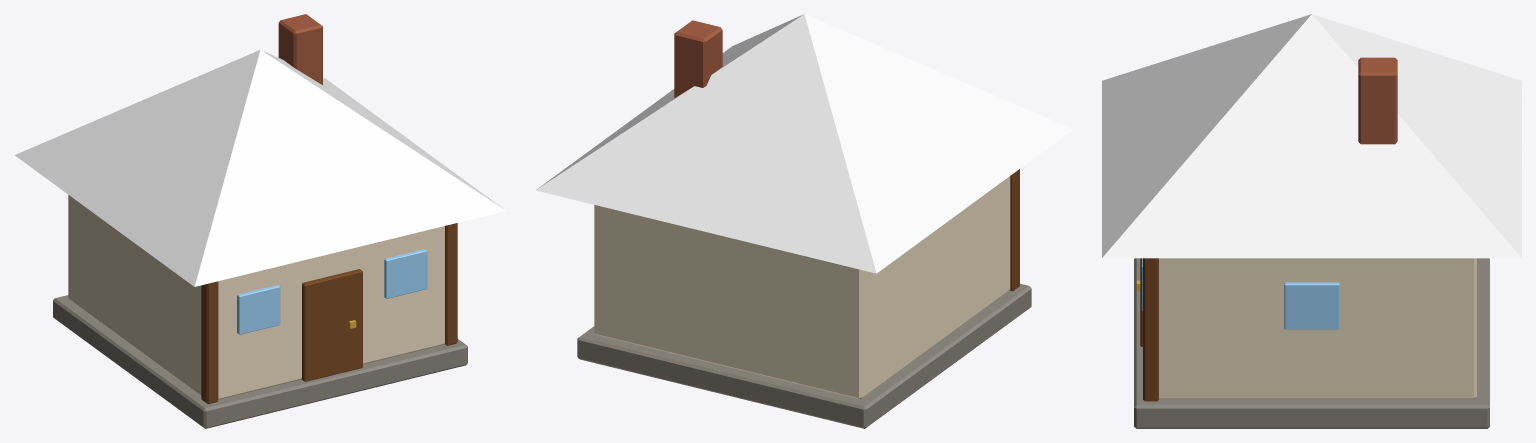
Rendered from house.glb.
3 views of the same model, side by side, from view 1: azimuth 30°, elevation 25°; view 2: azimuth 150°, elevation 25°; view 3: azimuth 270°, elevation 25° (orthographic). The views are drawn at different scales.
Visible parts, largest first — view 1: Roof, Walls, Foundation, Door, Chimney, BeamL, WindowR, WindowL, BeamR; view 2: Roof, Walls, Foundation, Chimney, BeamL; view 3: Roof, Walls, Foundation, Chimney, WindowS, BeamR.
Part boxes in pixels (x1=…): Roof: x1=15, y1=50, x2=505, y2=286; Walls: x1=68, y1=195, x2=444, y2=399; Foundation: x1=53, y1=295, x2=467, y2=428; Door: x1=301, y1=269, x2=362, y2=381; Chimney: x1=278, y1=14, x2=322, y2=84; BeamL: x1=201, y1=281, x2=218, y2=403; WindowR: x1=384, y1=249, x2=427, y2=298; WindowL: x1=237, y1=285, x2=280, y2=334; BeamR: x1=445, y1=223, x2=457, y2=345; Roof: x1=535, y1=14, x2=1073, y2=273; Walls: x1=594, y1=176, x2=1010, y2=399; Foundation: x1=577, y1=283, x2=1031, y2=428; Chimney: x1=674, y1=20, x2=722, y2=97; BeamL: x1=1009, y1=169, x2=1019, y2=291; Roof: x1=1102, y1=14, x2=1521, y2=258; Walls: x1=1159, y1=258, x2=1476, y2=399; Foundation: x1=1134, y1=258, x2=1489, y2=428; Chimney: x1=1358, y1=57, x2=1397, y2=144; WindowS: x1=1284, y1=282, x2=1339, y2=329; BeamR: x1=1143, y1=258, x2=1158, y2=401.
Size of the model in its own units: 3.18 by 2.85 by 3.18.
